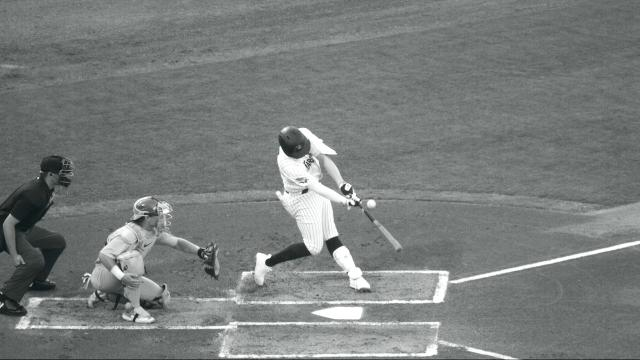baseball bat: (354, 200, 402, 254)
sports ball: (367, 199, 378, 209)
